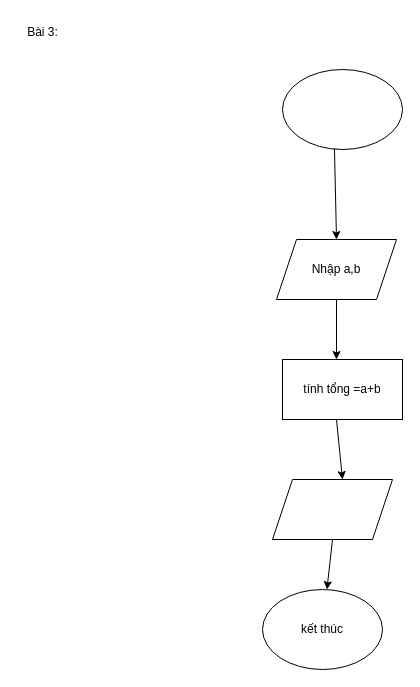
The diagram is 420 pixels wide and 687 high, and some of its shapes have lost their labels. The centre of each missing label's shape, as x and y in pixels:
"hiện thị tổng" belongs at [332,509].
"Start" belongs at [342,109].
